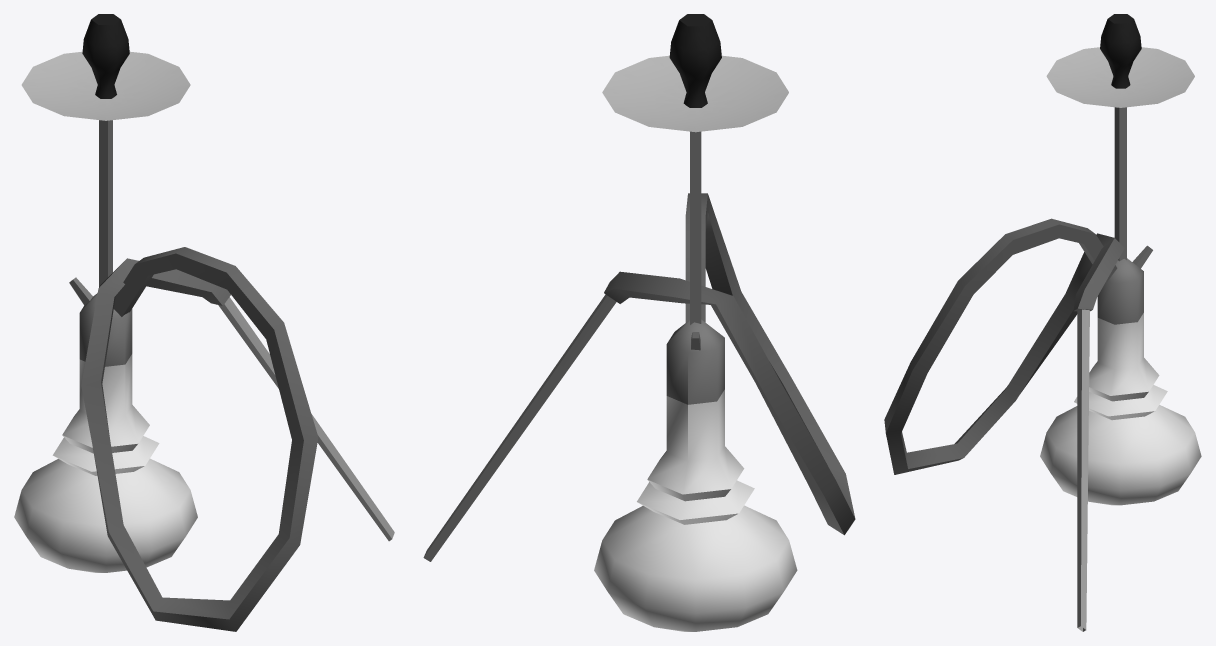
File: entertainment_020.glb
3 views of the same model, side by side, from view 1: azimuth 30°, elevation 25°; view 2: azimuth 150°, elevation 25°; view 3: azimuth 270°, elevation 25° (orthographic). The views are drawn at different scales.
Visible parts, largest first — view 1: entertainment_020; view 2: entertainment_020; view 3: entertainment_020.
Boxes of the visible parts, bbox=[...] form: entertainment_020: bbox=[14, 14, 394, 631]; entertainment_020: bbox=[423, 14, 855, 631]; entertainment_020: bbox=[884, 14, 1201, 631].
Bounding box in the file's own units: 0.5836 × 0.9194 × 0.5277.
Materials: 1 (1 with a texture image).
